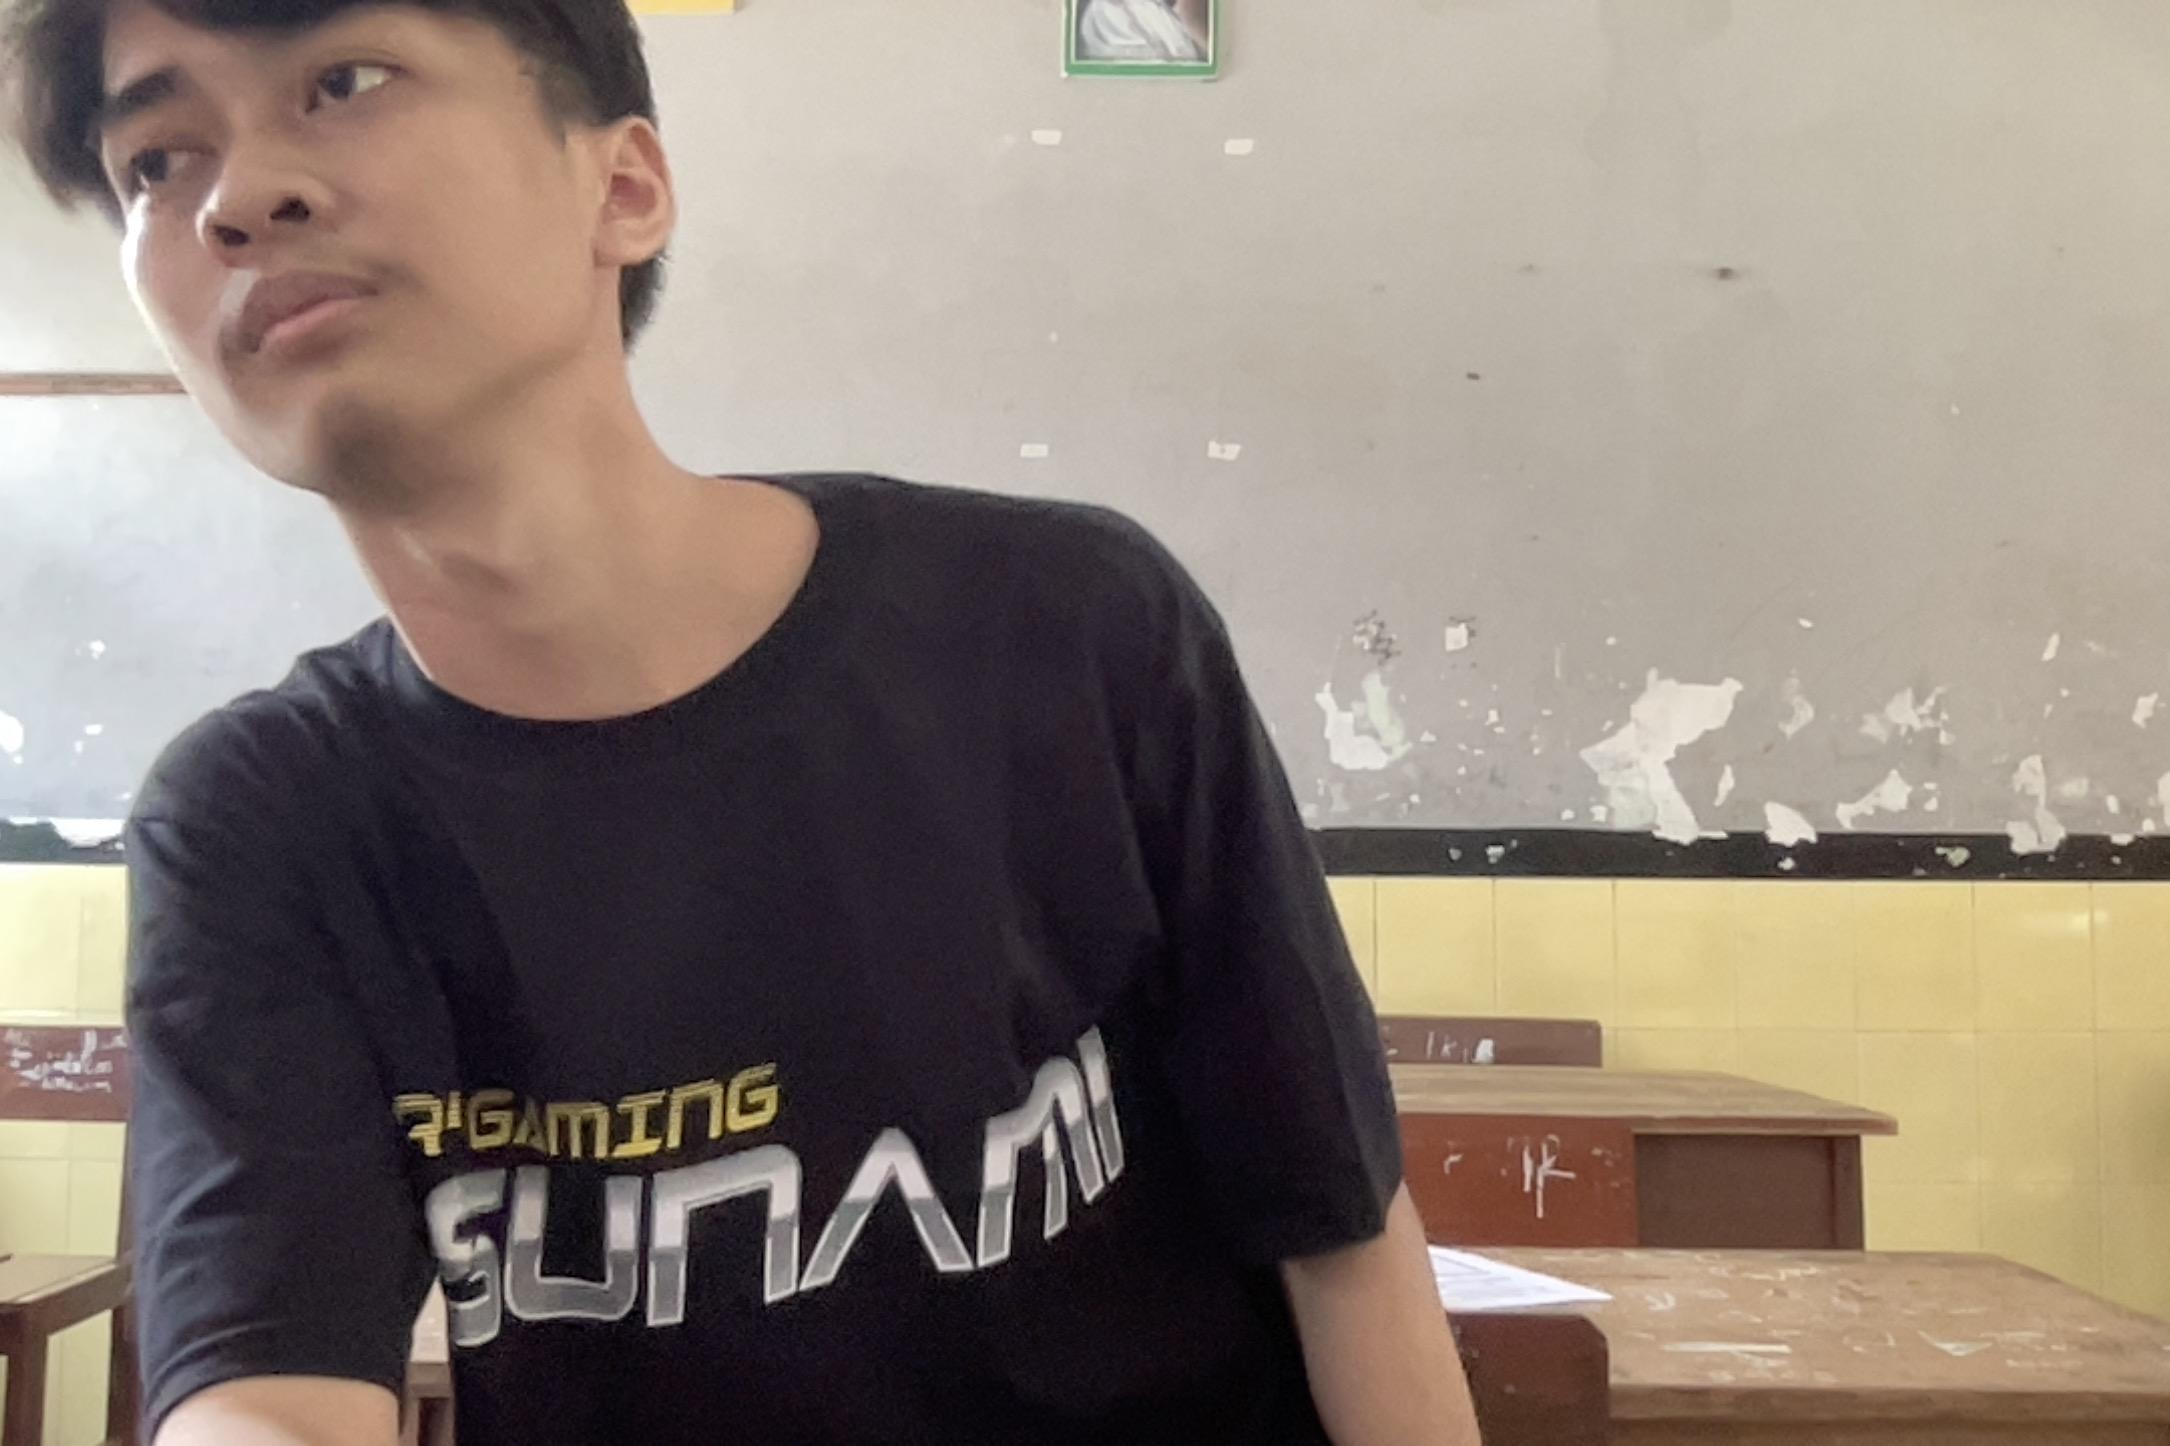cheating: (0, 0, 1541, 1446)
